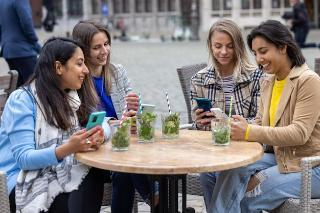person - v3 P: (209, 20, 319, 212), (0, 38, 109, 212), (191, 19, 266, 129), (73, 20, 139, 124), (0, 0, 41, 86), (286, 0, 319, 47)
